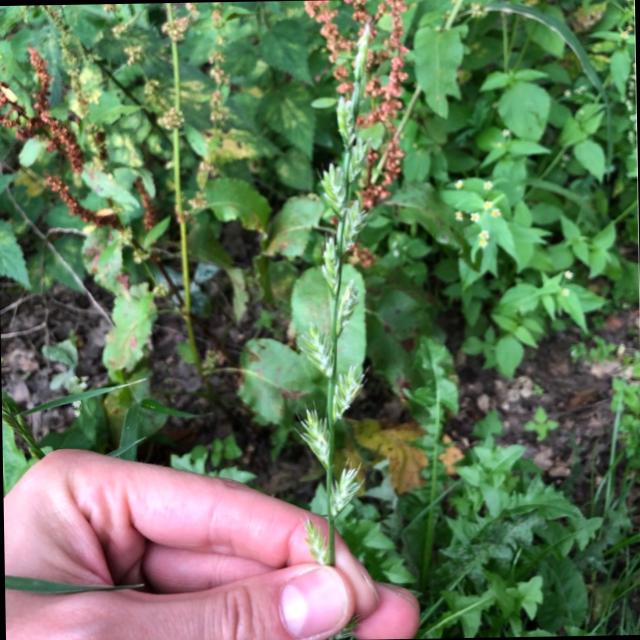Lolium: (292, 42, 384, 581)
